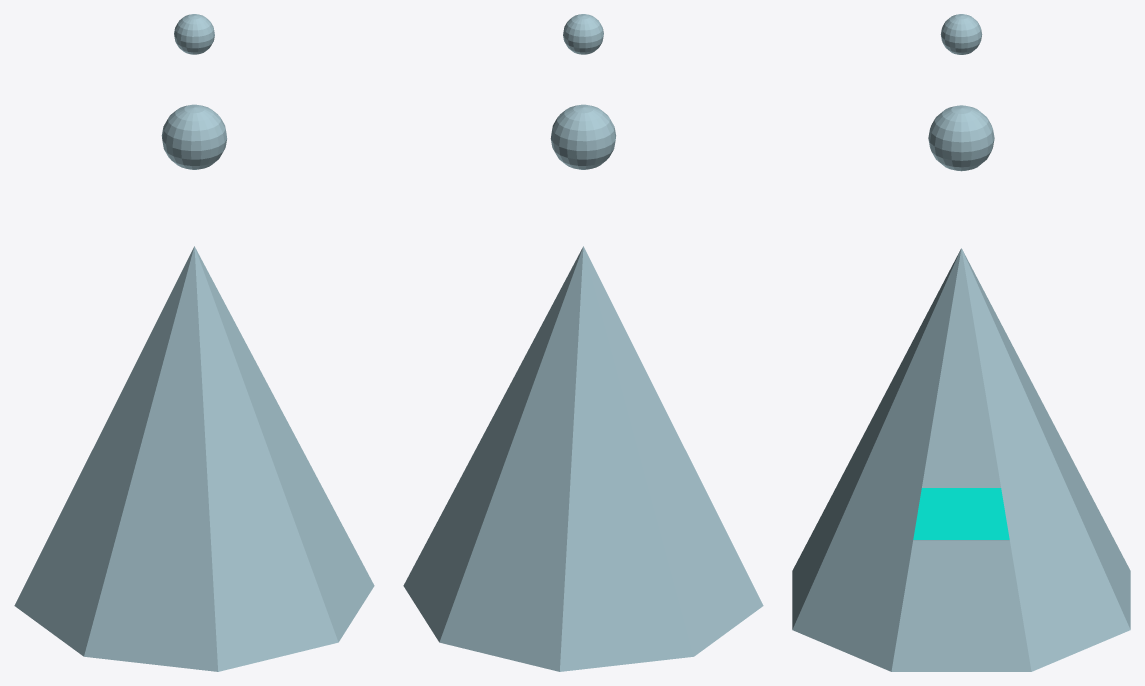
The model's file is vase-04.fbx.
3 renders of one model, left to right at view 1: azimuth 30°, elevation 25°; view 2: azimuth 150°, elevation 25°; view 3: azimuth 270°, elevation 25°, orthographic.
Visible parts, largest first — view 1: vase-04; view 2: vase-04; view 3: vase-04.
Boxes of the visible parts, bbox=[...] form: vase-04: bbox=[14, 14, 374, 671]; vase-04: bbox=[403, 14, 763, 671]; vase-04: bbox=[792, 14, 1130, 671].
Size of the model in its own units: 14.78 by 28.19 by 14.78.
